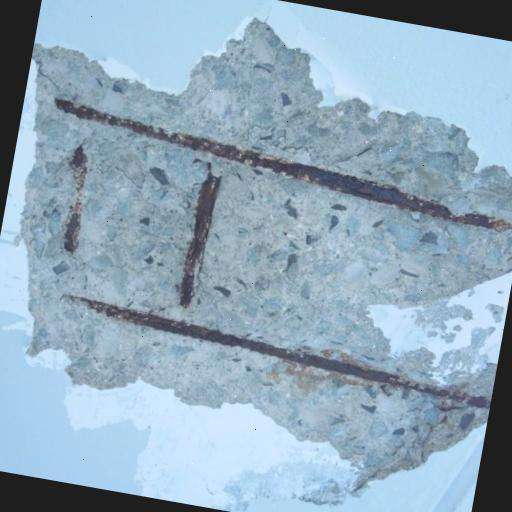spalling: (20, 16, 512, 494)
